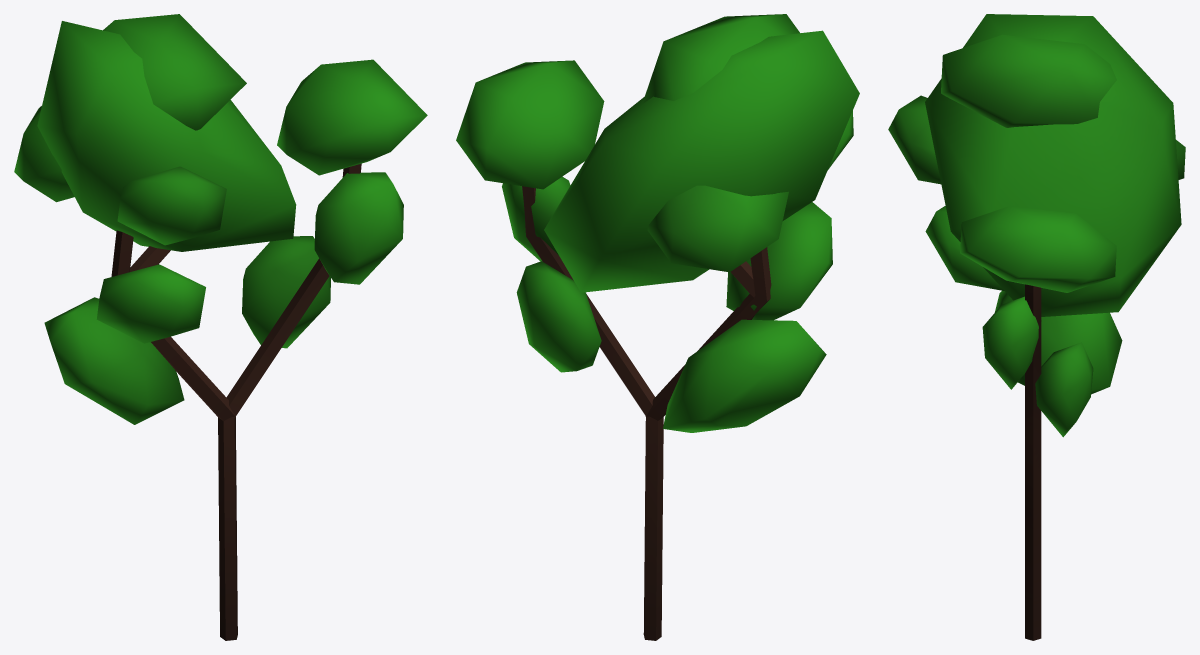
File: SmallTree.FBX
3 renders of one model, left to right at view 1: azimuth 30°, elevation 25°; view 2: azimuth 150°, elevation 25°; view 3: azimuth 270°, elevation 25°, orthographic. The views are drawn at different scales.
Parts seen in each view (by area): view 1: thinTree004; view 2: thinTree004; view 3: thinTree004.
Part boxes in pixels (left/top/right/bottom): thinTree004: left=14, top=14, right=427, bottom=640; thinTree004: left=456, top=14, right=859, bottom=640; thinTree004: left=888, top=14, right=1185, bottom=640.
Bounding box in the file's own units: 21.84 × 36.09 × 17.23.
